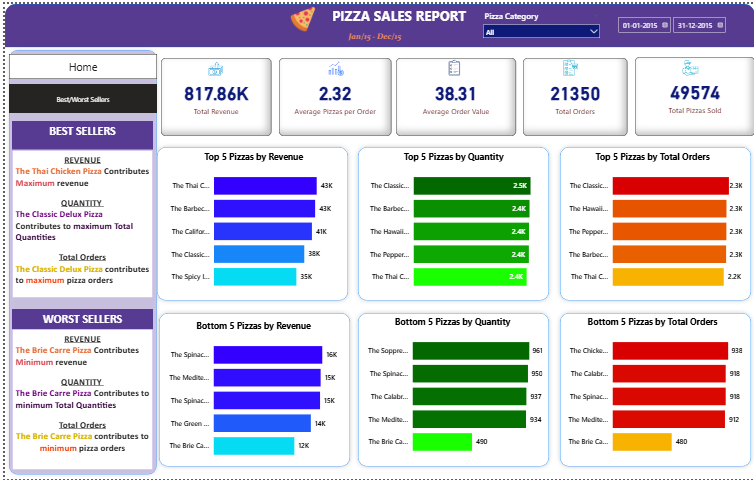

The page's visual inventory and layout, read from the dashboard file:
{"tool":"powerbi","page":{"name":"Best/Worst Sellers","canvas":[1500,950],"ordinal":1},"visuals":[{"type":"card","fields":{"Values":["pizza_sales.Total_Revenue"]},"box":[311.4,108.4,220.7,155.7],"z":0},{"type":"shape","box":[0,84.8,311.4,865.2],"z":1000},{"type":"card","fields":{"Values":["pizza_sales.Average Order Value"]},"box":[782.5,108.4,240.5,155.7],"z":2000},{"type":"card","fields":{"Values":["pizza_sales.Average Pizzas per Order"]},"box":[547.9,108.4,224.7,155.7],"z":3000},{"type":"card","fields":{"Values":["pizza_sales.Total Pizzas Sold"]},"box":[1259.4,106.4,240.5,157.7],"z":4000},{"type":"card","fields":{"Values":["pizza_sales.Total Orders"]},"box":[1036.7,108.4,208.9,155.7],"z":5000},{"type":"image","box":[386.3,108.4,71,43.4],"z":6000},{"type":"image","box":[817.9,106.4,161.6,43.4],"z":7000},{"type":"image","box":[1259.4,106.4,220.7,43.4],"z":8000},{"type":"image","box":[1036.7,106.4,191.2,43.4],"z":9000},{"type":"image","box":[551.9,108.4,220.7,43.4],"z":10000},{"type":"shape","box":[0,0,1499.9,86.7],"z":11000},{"type":"textbox","box":[641.7,0,397.6,61],"z":12000},{"type":"textbox","box":[681.1,31.5,151.6,55.1],"z":13000},{"type":"image","box":[547.2,0,94.5,61],"z":14000},{"type":"shape","box":[295.6,277.9,398.1,323.2],"z":15000},{"type":"textbox","box":[13.8,234.5,281.8,57.2],"z":16000},{"type":"textbox","box":[13.8,291.7,281.8,295.6],"z":17000},{"type":"textbox","box":[13.8,609,281.8,41.4],"z":18000},{"type":"textbox","box":[13.8,650.4,281.8,281.8],"z":19000},{"type":"slicer","fields":{"Values":["pizza_sales.pizza_category"]},"box":[946.1,7.9,254.3,71],"z":20000},{"type":"slicer","fields":{"Values":["pizza_sales.order_date"]},"box":[1214.1,15.8,266.1,71],"z":21000},{"type":"shape","box":[697.7,277.9,398,323.2],"z":22000},{"type":"shape","box":[1101.8,277.9,398.1,323.2],"z":23000},{"type":"shape","box":[299.6,609,398.1,323.2],"z":24000},{"type":"shape","box":[697.7,609,398,323.2],"z":25000},{"type":"shape","box":[1101.8,609,398.1,323.2],"z":26000},{"type":"barChart","title":"Top 5 Pizzas by Revenue","fields":{"Category":["pizza_sales.pizza_name"],"Y":["pizza_sales.Total Revenue"]},"box":[311.4,291.7,370.5,295.6],"z":27000},{"type":"barChart","title":"Bottom  5 Pizzas by Revenue","fields":{"Category":["pizza_sales.pizza_name"],"Y":["pizza_sales.Total Revenue"]},"box":[312,630,370,296],"z":27001},{"type":"barChart","title":"Top 5 Pizzas by Quantity","fields":{"Category":["pizza_sales.pizza_name"],"Y":["pizza_sales.Total Pizzas Sold"]},"box":[712,292,370,296],"z":27002},{"type":"barChart","title":"Bottom 5 Pizzas by Quantity","fields":{"Category":["pizza_sales.pizza_name"],"Y":["pizza_sales.Total Pizzas Sold"]},"box":[710,622,370,296],"z":27003},{"type":"barChart","title":"Top 5 Pizzas by Total Orders","fields":{"Category":["pizza_sales.pizza_name"],"Y":["pizza_sales.Total Orders"]},"box":[1110,292,370,296],"z":27004},{"type":"barChart","title":"Bottom 5 Pizzas by Total Orders","fields":{"Category":["pizza_sales.pizza_name"],"Y":["pizza_sales.Total Orders"]},"box":[1110,622,370,296],"z":27005},{"type":"pageNavigator","box":[8,100,296,50],"z":27006},{"type":"pageNavigator","box":[8,160,296,58],"z":27007}]}

Visuals, with their boxes in screenshot pixels (x1, y1, x2, y2), scaled from the page's 1500x950 canvas onto the 754x480 screenshot:
card - pizza_sales.Total_Revenue: 157, 55, 267, 133
shape: 0, 43, 157, 479
card - pizza_sales.Average Order Value: 393, 55, 514, 133
card - pizza_sales.Average Pizzas per Order: 275, 55, 388, 133
card - pizza_sales.Total Pizzas Sold: 633, 54, 753, 133
card - pizza_sales.Total Orders: 521, 55, 626, 133
image: 194, 55, 230, 77
image: 411, 54, 492, 76
image: 633, 54, 744, 76
image: 521, 54, 617, 76
image: 277, 55, 388, 77
shape: 0, 0, 753, 44
textbox: 323, 0, 522, 31
textbox: 342, 16, 419, 44
image: 275, 0, 323, 31
shape: 149, 140, 349, 304
textbox: 7, 118, 149, 147
textbox: 7, 147, 149, 297
textbox: 7, 308, 149, 329
textbox: 7, 329, 149, 471
slicer - pizza_sales.pizza_category: 476, 4, 603, 40
slicer - pizza_sales.order_date: 610, 8, 744, 44
shape: 351, 140, 551, 304
shape: 554, 140, 753, 304
shape: 151, 308, 351, 471
shape: 351, 308, 551, 471
shape: 554, 308, 753, 471
"Top 5 Pizzas by Revenue" barChart: 157, 147, 343, 297
"Bottom  5 Pizzas by Revenue" barChart: 157, 318, 343, 468
"Top 5 Pizzas by Quantity" barChart: 358, 148, 544, 297
"Bottom 5 Pizzas by Quantity" barChart: 357, 314, 543, 464
"Top 5 Pizzas by Total Orders" barChart: 558, 148, 744, 297
"Bottom 5 Pizzas by Total Orders" barChart: 558, 314, 744, 464
pageNavigator: 4, 51, 153, 76
pageNavigator: 4, 81, 153, 110
